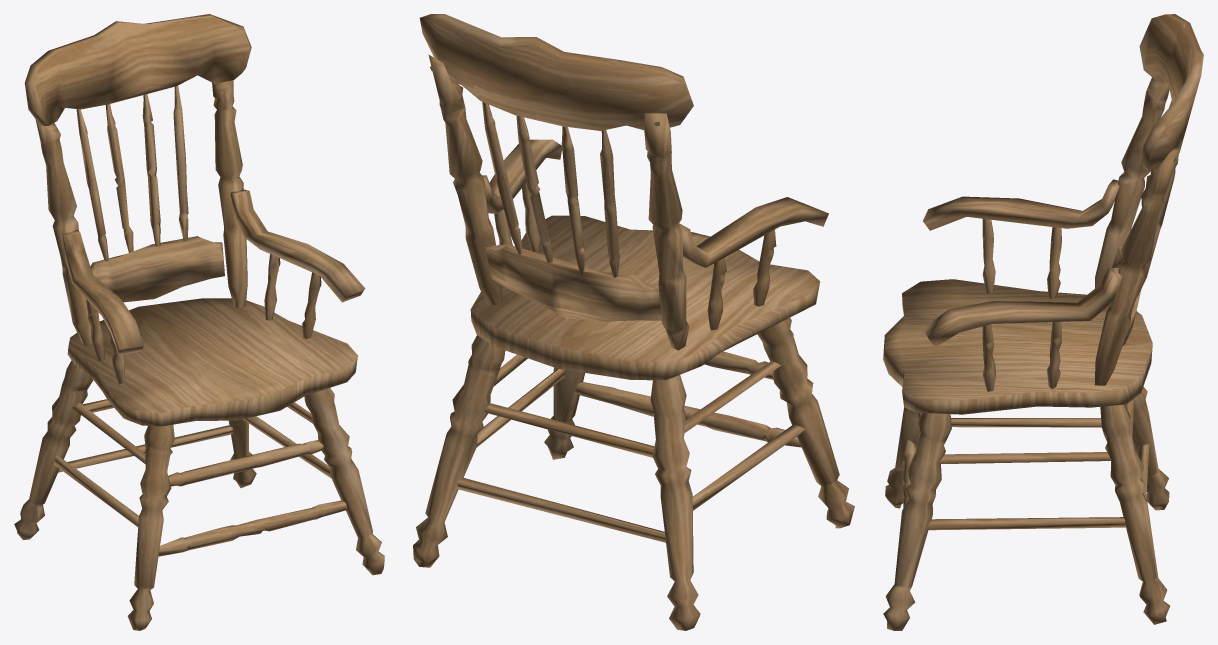
File: EmbaseDeDos.fbx
3 renders of one model, left to right at view 1: azimuth 30°, elevation 25°; view 2: azimuth 150°, elevation 25°; view 3: azimuth 270°, elevation 25°, orthographic. The views are drawn at different scales.
Visible parts, largest first — view 1: EmbaseDeDos; view 2: EmbaseDeDos; view 3: EmbaseDeDos.
Part boxes in pixels (bbox=[...]): EmbaseDeDos: bbox=[14, 14, 384, 630]; EmbaseDeDos: bbox=[413, 14, 854, 630]; EmbaseDeDos: bbox=[883, 14, 1203, 630].
Size of the model in its own units: 55.87 by 102 by 57.14.
1 material, 1 textured.
